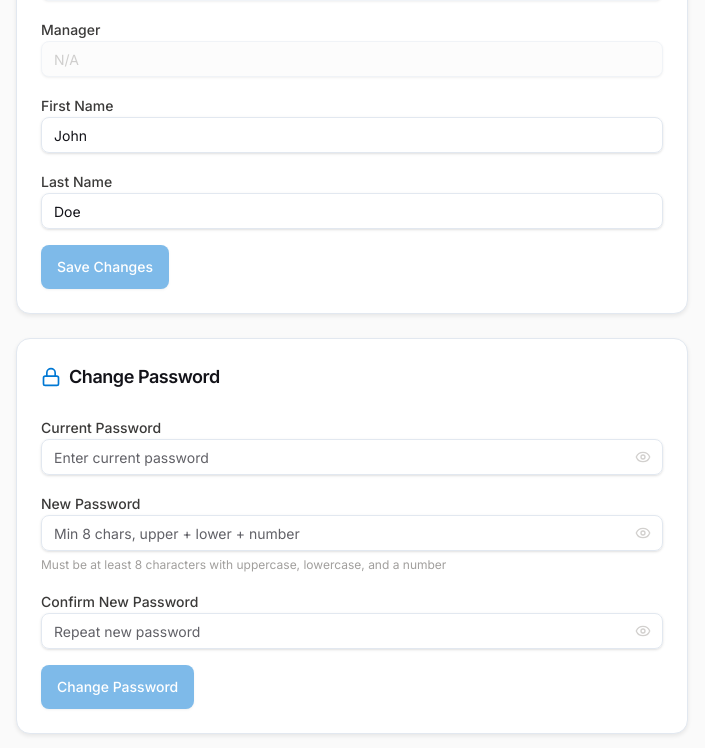
Test: ProfilePage › password change › shows error for password without complexity
(page scrolled)
Expected: the field showing "John" is shown, [41,117,663,153]
Type "oldpass" into the password field labelled "Current Password". click: (352, 457)
box: [41,439,663,475]
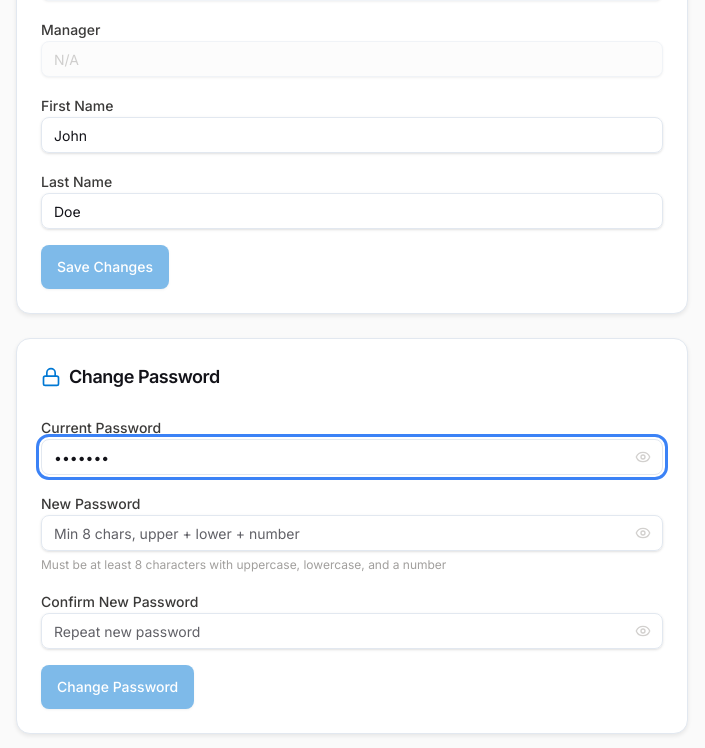
Type "alllowercase" into the password field labelled "New Password". click: (352, 533)
box: [41,515,663,551]
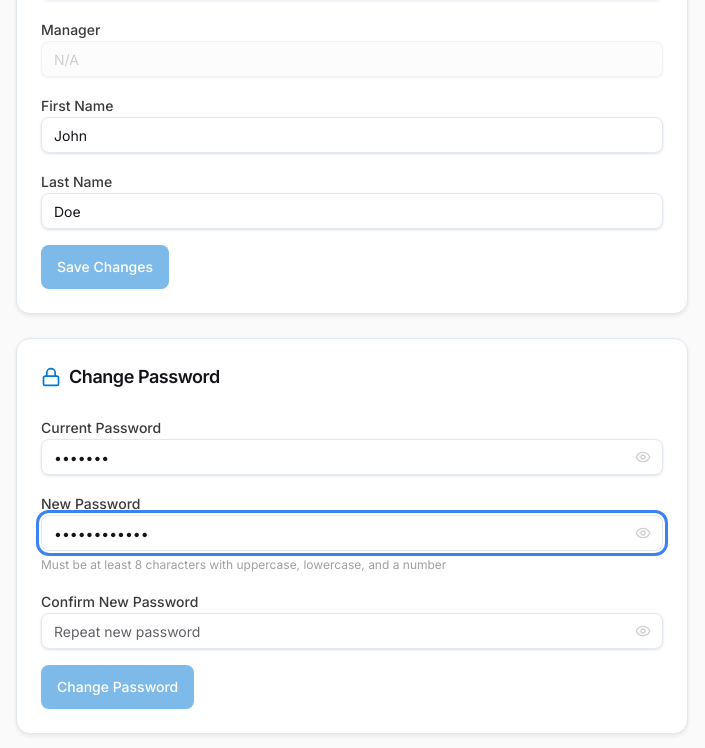
Type "alllowercase" into the password field labelled "Confirm New Password". click: (352, 631)
box: [41,613,663,649]
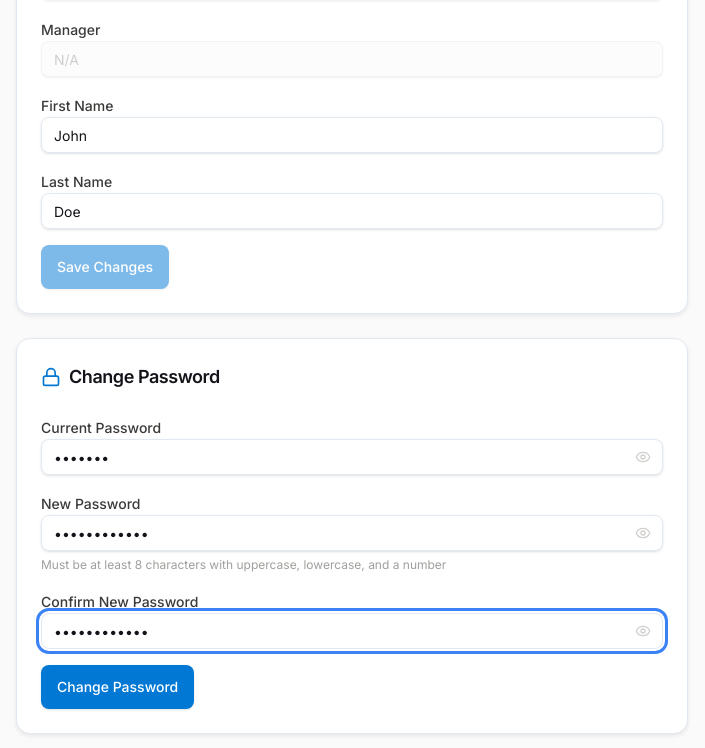
Click the button "Change Password". click: (118, 687)
box: [41,665,194,709]
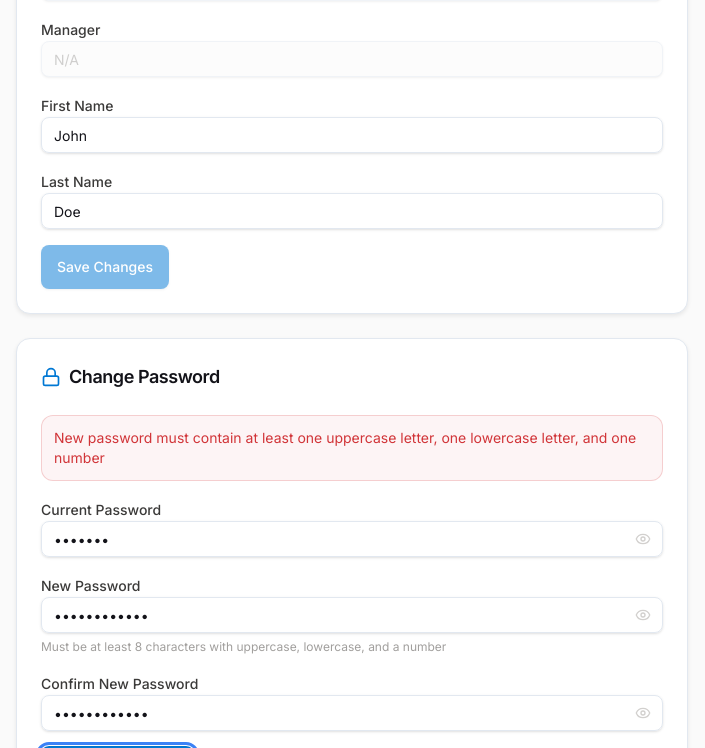
Expected: the text "must contain at least one uppercase" is shown, [54,429,636,466]
